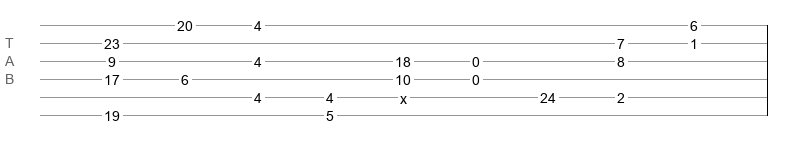0: (472, 54, 480, 64), (472, 72, 480, 82)
1: (690, 36, 698, 46)
10: (395, 72, 411, 82)
17: (104, 72, 120, 82)
18: (395, 54, 411, 64)
19: (104, 108, 120, 118)
2: (617, 90, 625, 100)
20: (177, 18, 193, 28)
23: (104, 36, 120, 46)
24: (540, 90, 556, 100)
4: (254, 90, 262, 100), (254, 18, 262, 28), (254, 54, 262, 64), (326, 90, 334, 100)
5: (326, 108, 334, 118)
6: (181, 72, 189, 82), (690, 18, 698, 28)
7: (617, 36, 625, 46)
8: (617, 54, 625, 64)
9: (108, 54, 116, 64)
x: (400, 91, 407, 99)
